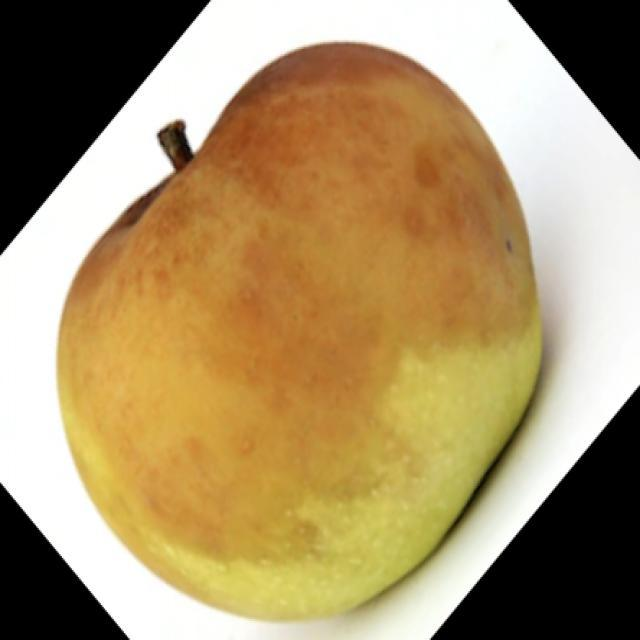Rotten: (40, 55, 575, 620)
